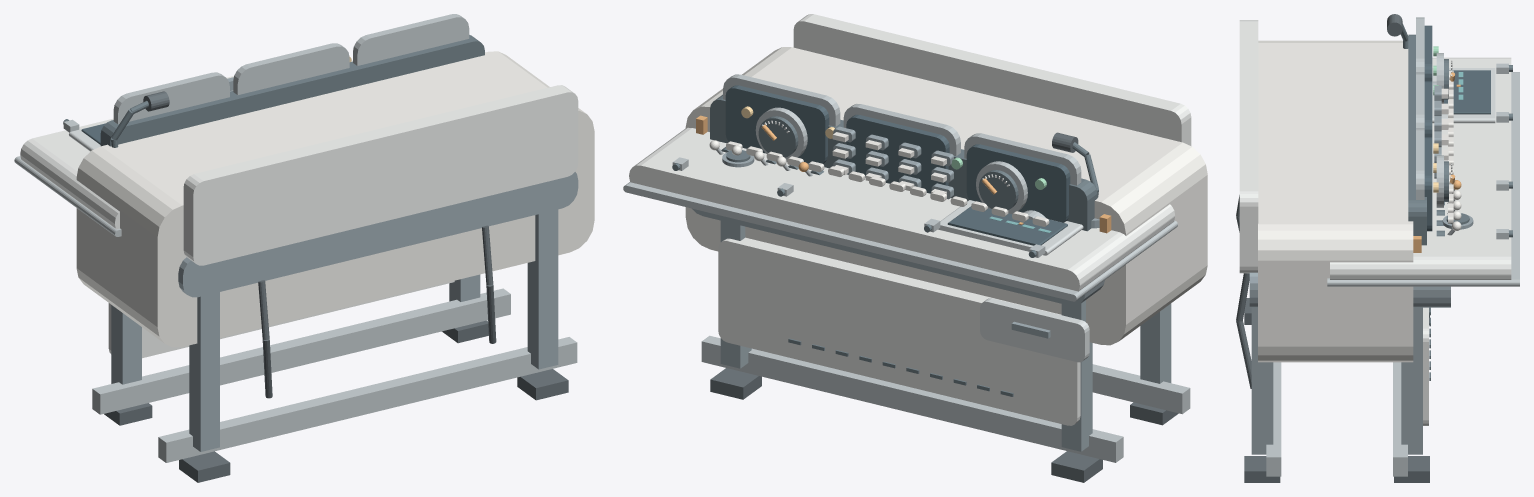
File: mission_planning_console.glb
The picture shows the model from 3 angles, left to right: view 1: azimuth 30°, elevation 25°; view 2: azimuth 150°, elevation 25°; view 3: azimuth 270°, elevation 25°; orthographic projection. The views are drawn at different scales.
Parts seen in each view (by area): view 1: static_shell__shell_warm, static_back__shell, frame__aluminum, static_undertray__steel, frame__steel, instrument_surround__aluminum, static_recess__graphite, desk_top__shell, feet__rubber, static_cabling__rubber, static_service__shell, static_console_rim__aluminum; view 2: static_shell__shell_warm, static_service__shell, desk_top__shell, static_back__shell, frame__aluminum, instrument_surround__panel, static_console_rim__aluminum, frame__steel, instrument_surround__aluminum, access_drawer__light_gray, feet__rubber, static_recess__graphite (+9 smaller); view 3: static_shell__shell_warm, desk_top__shell, static_back__shell, frame__steel, static_console_rim__aluminum, frame__aluminum, static_recess__graphite, instrument_surround__panel, instrument_surround__aluminum, mission_card_tray__panel, feet__rubber, static_undertray__steel (+10 smaller).
Boxes of the visible parts, <box> form: static_shell__shell_warm: <box>76,51,594,347</box>; static_back__shell: <box>183,85,578,265</box>; frame__aluminum: <box>92,288,577,462</box>; static_undertray__steel: <box>178,172,578,297</box>; frame__steel: <box>111,209,558,451</box>; instrument_surround__aluminum: <box>113,14,469,124</box>; static_recess__graphite: <box>100,35,484,146</box>; desk_top__shell: <box>20,52,485,229</box>; feet__rubber: <box>104,320,568,482</box>; static_cabling__rubber: <box>258,225,496,398</box>; static_service__shell: <box>108,280,454,358</box>; static_console_rim__aluminum: <box>14,156,121,236</box>; static_shell__shell_warm: <box>685,47,1207,345</box>; static_service__shell: <box>718,237,1080,425</box>; desk_top__shell: <box>629,127,1175,291</box>; static_back__shell: <box>793,14,1191,145</box>; frame__aluminum: <box>701,335,1190,462</box>; instrument_surround__panel: <box>725,85,1070,222</box>; static_console_rim__aluminum: <box>623,182,1177,301</box>; frame__steel: <box>720,220,1171,451</box>; instrument_surround__aluminum: <box>723,74,1081,185</box>; access_drawer__light_gray: <box>980,298,1089,362</box>; feet__rubber: <box>710,368,1178,482</box>; static_recess__graphite: <box>710,94,1097,231</box>; static_shell__shell_warm: <box>1258,40,1413,362</box>; desk_top__shell: <box>1330,57,1511,279</box>; static_back__shell: <box>1239,20,1258,273</box>; frame__steel: <box>1251,307,1422,454</box>; static_console_rim__aluminum: <box>1327,72,1519,286</box>; frame__aluminum: <box>1266,362,1407,476</box>; static_recess__graphite: <box>1408,34,1426,245</box>; instrument_surround__panel: <box>1424,25,1432,231</box>; instrument_surround__aluminum: <box>1416,17,1424,199</box>; mission_card_tray__panel: <box>1444,70,1490,114</box>; feet__rubber: <box>1244,298,1429,482</box>; static_undertray__steel: <box>1249,272,1450,307</box>.
Size of the model in its own units: 1.73 by 1.18 by 0.9867.
